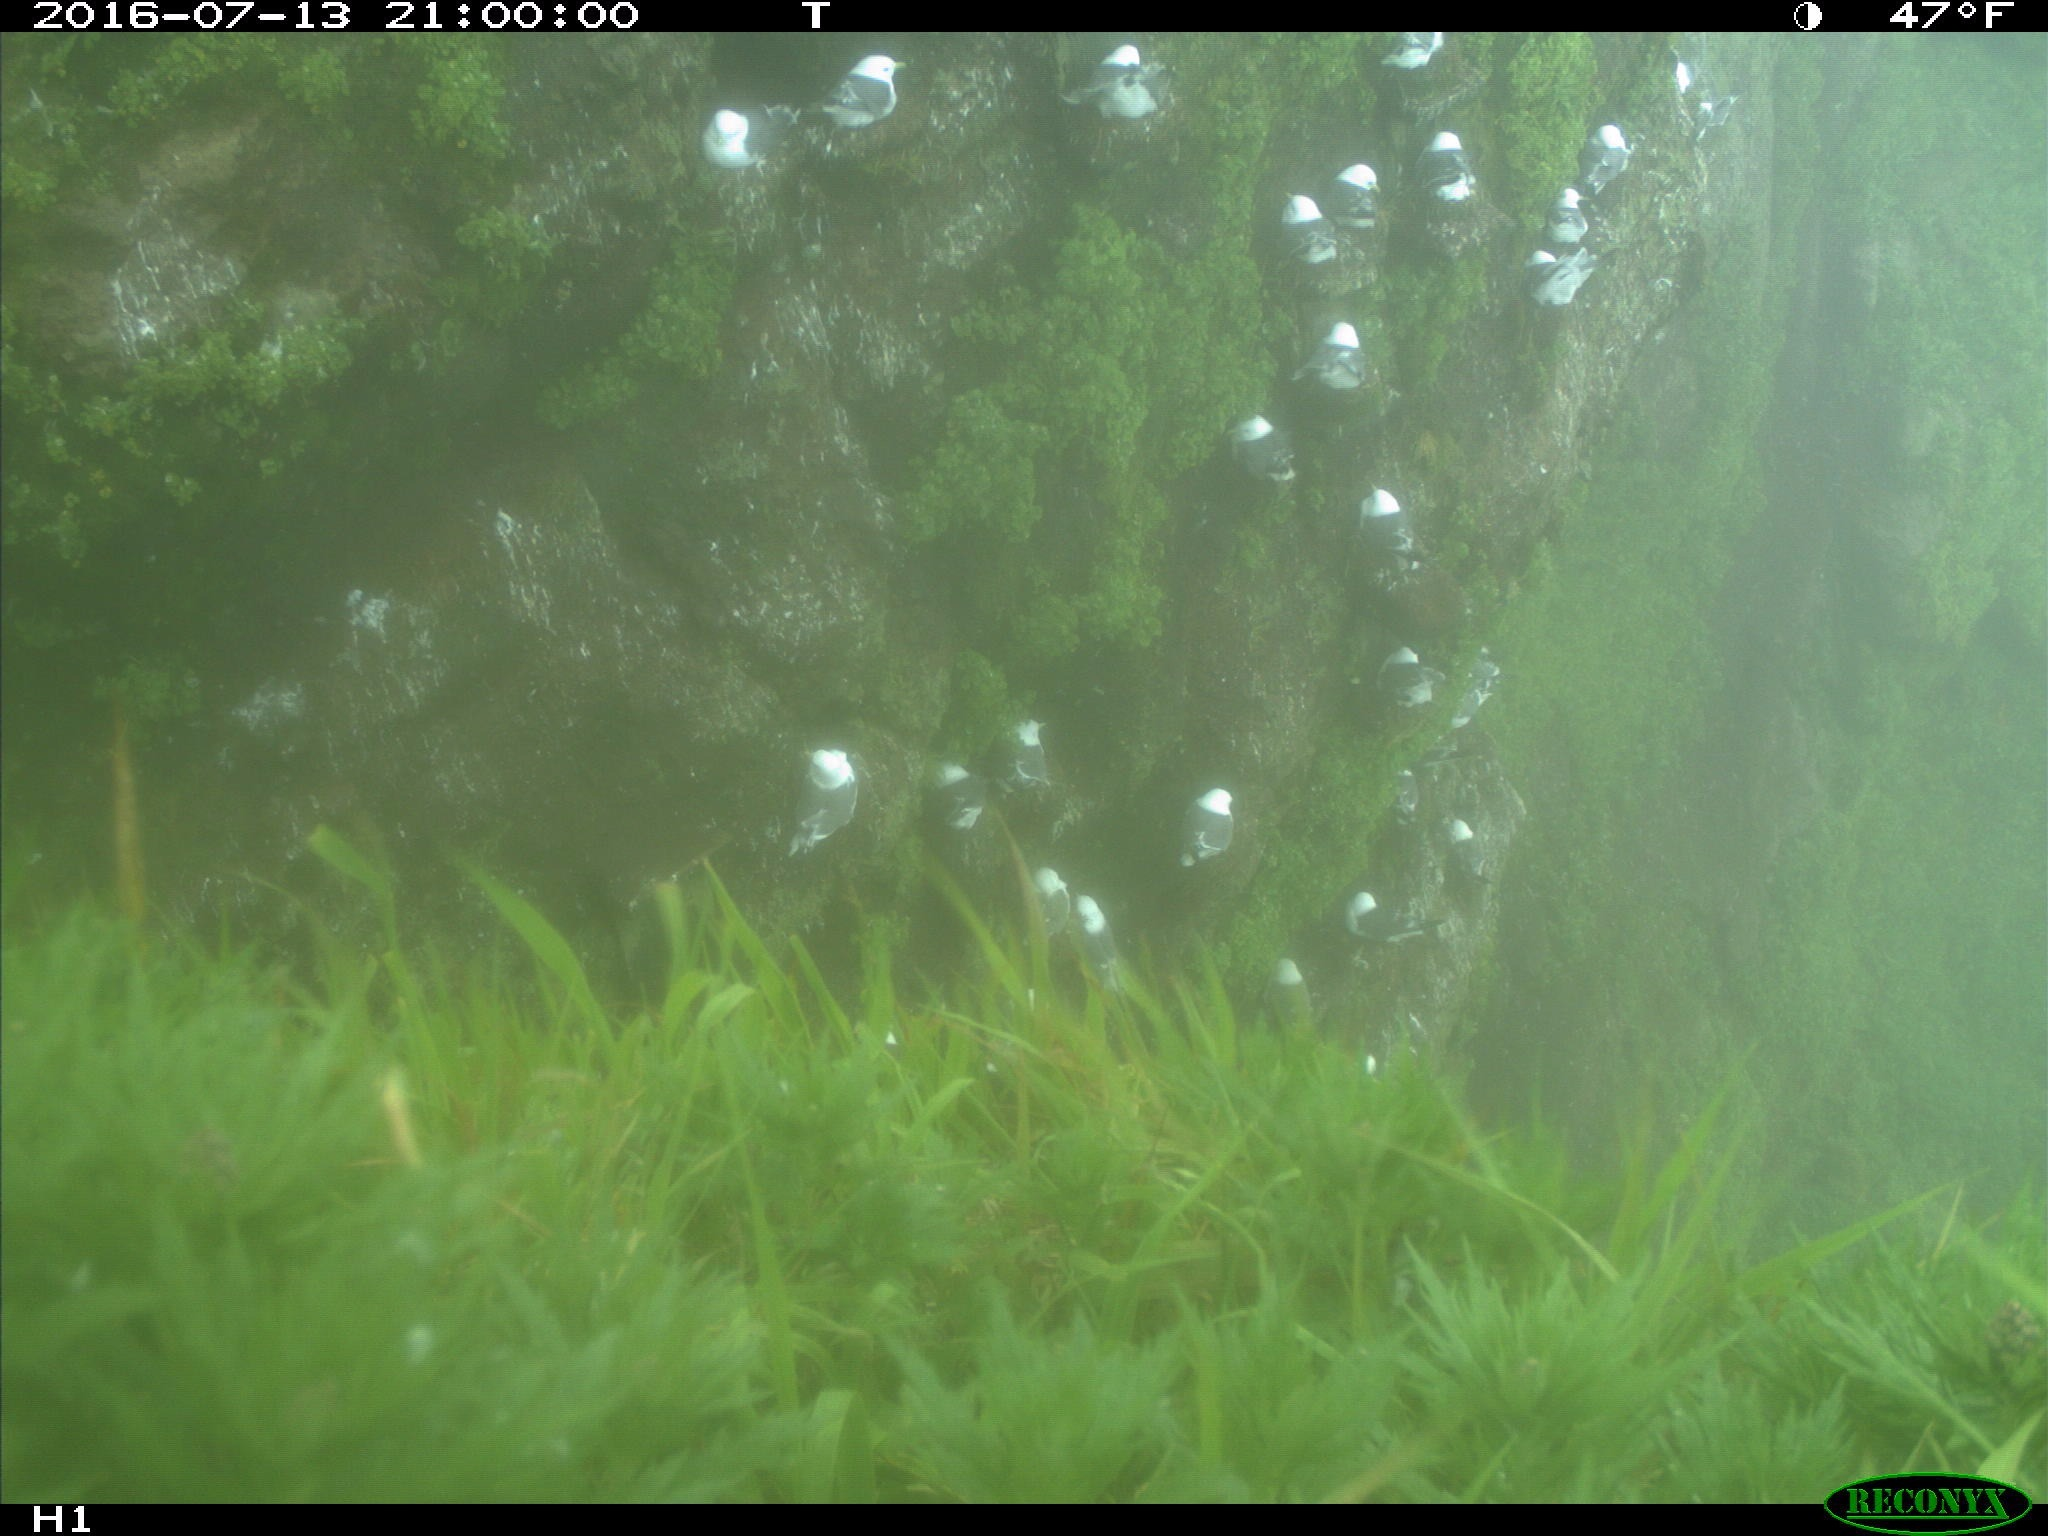Kittiwake: (677, 69, 824, 216), (1150, 755, 1292, 907), (811, 29, 955, 152), (1405, 102, 1517, 239), (1047, 19, 1179, 132), (774, 724, 871, 878), (1334, 849, 1451, 971), (1335, 466, 1442, 599), (1288, 300, 1395, 428), (921, 736, 1018, 866), (1508, 237, 1638, 331), (958, 692, 1074, 797), (1218, 392, 1313, 520), (1253, 942, 1347, 1068), (1663, 27, 1755, 153), (1271, 174, 1366, 287), (1567, 103, 1664, 211), (1022, 842, 1087, 984), (1355, 624, 1450, 716), (1535, 157, 1625, 252), (1334, 27, 1513, 74), (1317, 139, 1393, 248), (1068, 871, 1134, 995), (1442, 786, 1500, 913), (1458, 632, 1517, 753), (1371, 758, 1442, 847)
